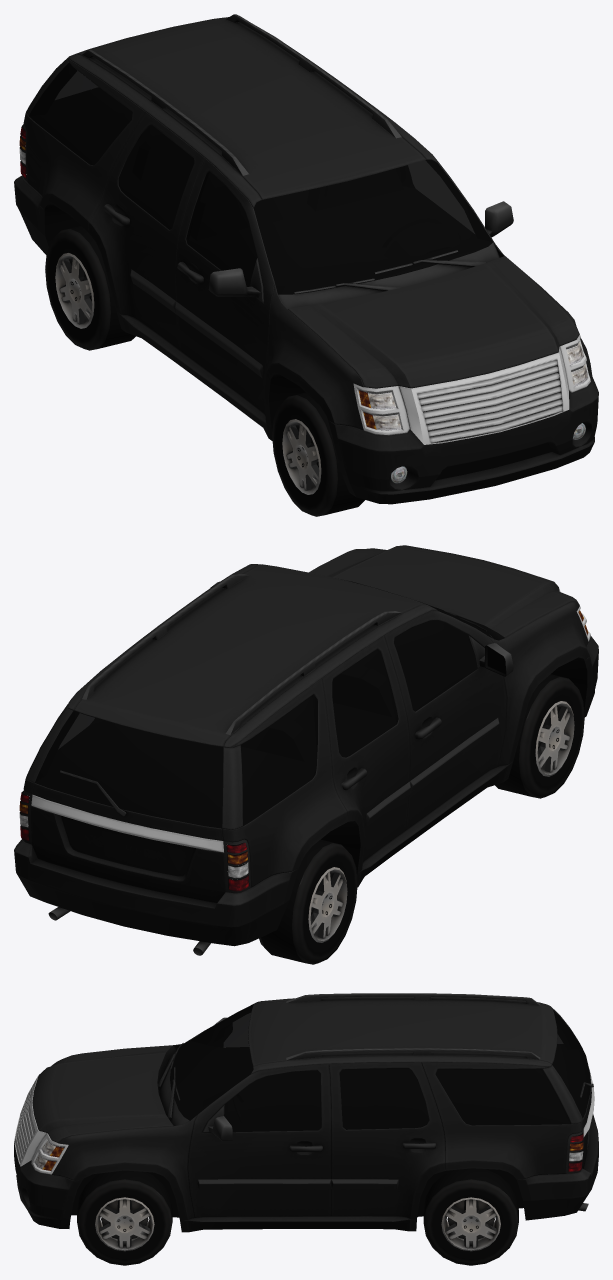
Rendered from pack_5.glb.
3 renders of one model, top to bottom at view 1: azimuth 30°, elevation 25°; view 2: azimuth 150°, elevation 25°; view 3: azimuth 270°, elevation 25°, orthographic. The views are drawn at different scales.
Visible parts, largest first — view 1: pack_5; view 2: pack_5; view 3: pack_5.
Boxes of the visible parts, bbox=[...] form: pack_5: bbox=[14, 14, 598, 516]; pack_5: bbox=[14, 545, 598, 964]; pack_5: bbox=[14, 993, 598, 1265].
Size of the model in its own units: 1.97 by 1.65 by 4.4.
4 materials, 3 textured.
